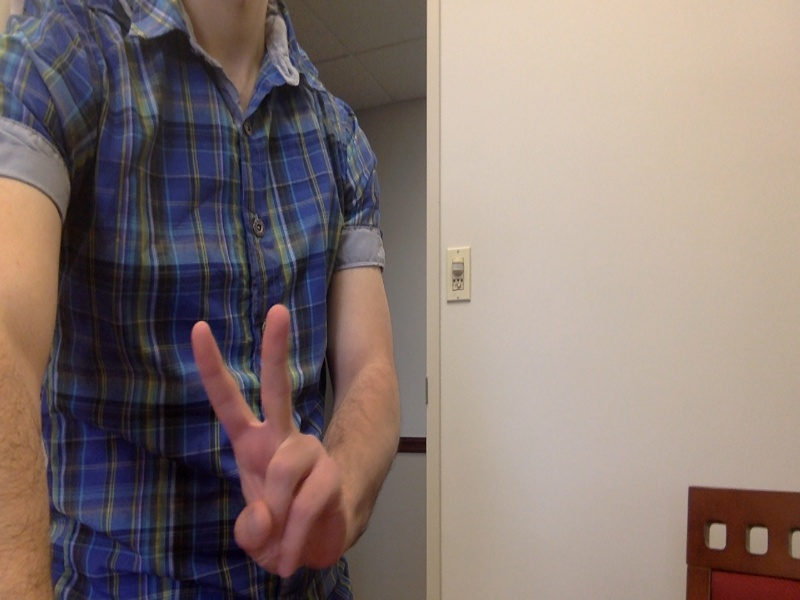2-hand: (190, 304, 353, 584)
